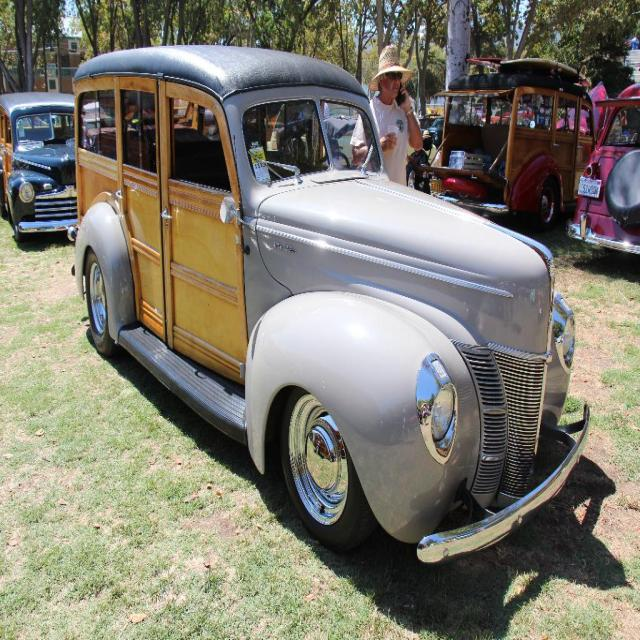car: (69, 44, 589, 555)
